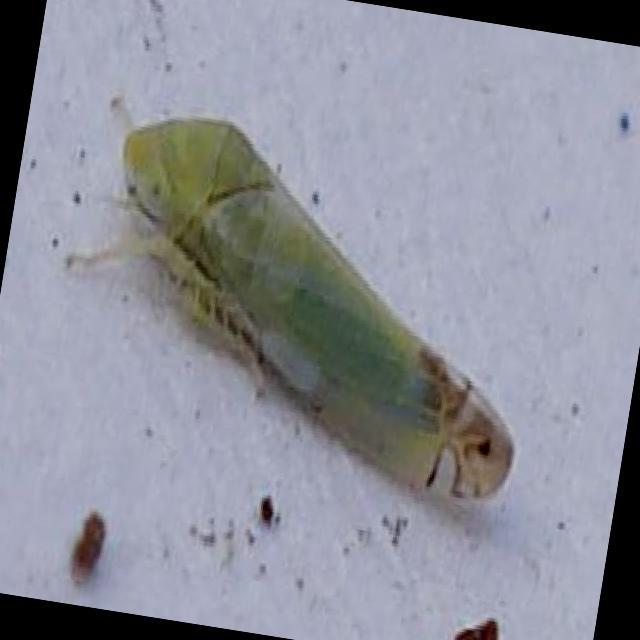green leaf hopper: (66, 99, 513, 500)
